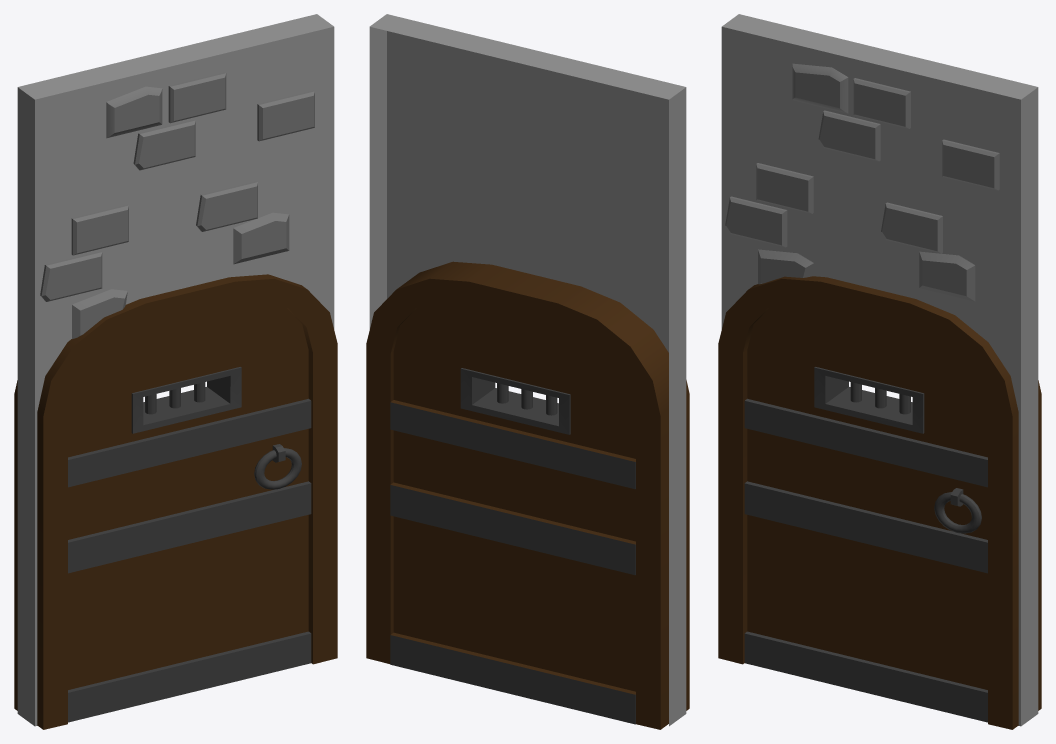
Rendered from wallWithDoorFrame.fbx.
3 renders of one model, left to right at view 1: azimuth 30°, elevation 25°; view 2: azimuth 150°, elevation 25°; view 3: azimuth 330°, elevation 25°, orthographic.
Parts seen in each view (by area): view 1: Wall with Door Frame, Door; view 2: Wall with Door Frame, Door; view 3: Wall with Door Frame, Door.
Boxes of the visible parts, box(x1,y1,x2,y2) form: Wall with Door Frame: box(14, 14, 337, 729); Door: box(68, 299, 311, 722); Wall with Door Frame: box(366, 14, 689, 729); Door: box(390, 299, 635, 724); Wall with Door Frame: box(718, 14, 1041, 729); Door: box(744, 299, 987, 722).
Bounding box in the file's own units: 200 × 35.82 × 400.
